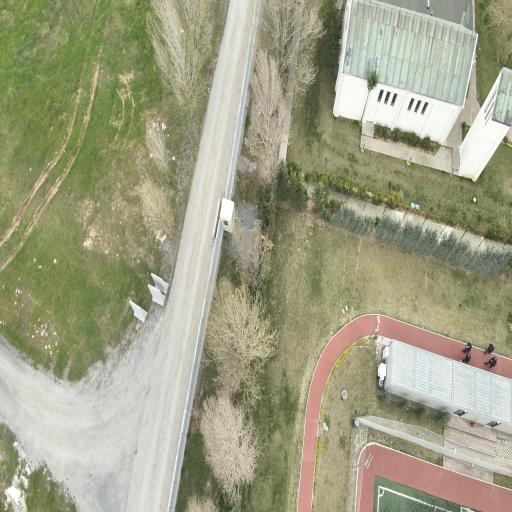person: (485, 357, 497, 367), (485, 344, 494, 354), (461, 354, 470, 363), (463, 343, 471, 353)
